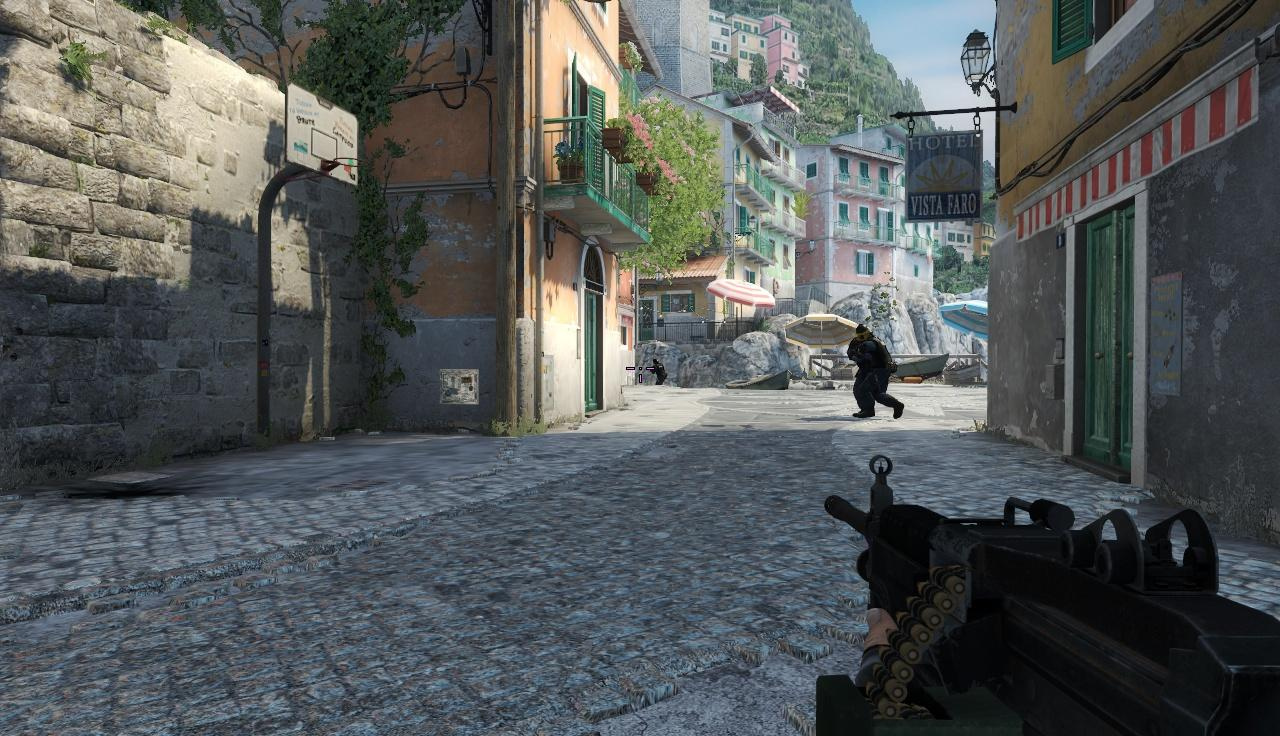ct: (848, 325, 893, 424), (652, 360, 667, 385)
cthead: (855, 325, 871, 342)
rifle: (833, 452, 1280, 731)
